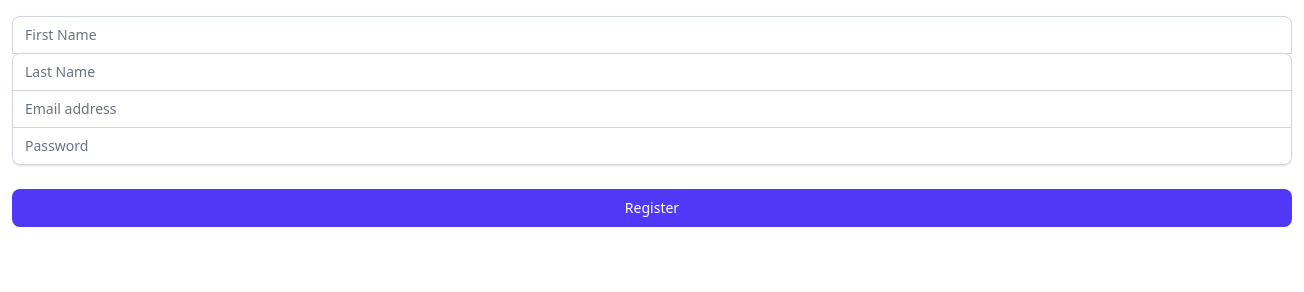
RegistrationForm Component › validates email is required
Type "John" into the field with placeholder "First Name" at (652, 35), box [12,16,1292,54]
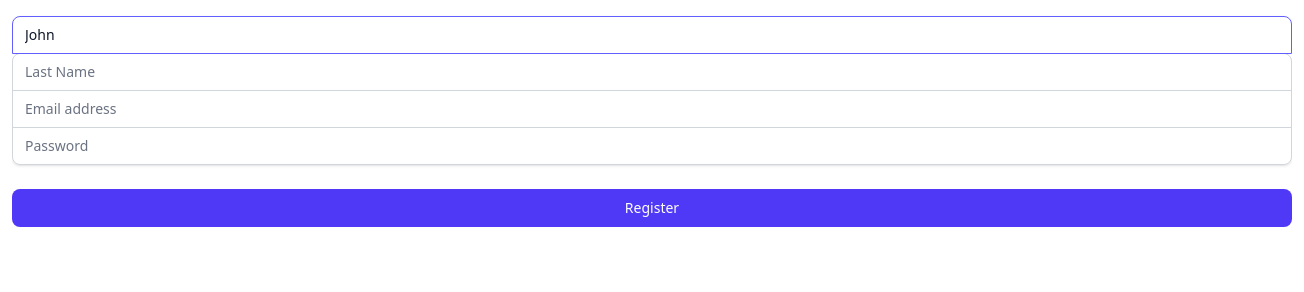
Click the button "Register" at (652, 208), box [12,189,1292,227]
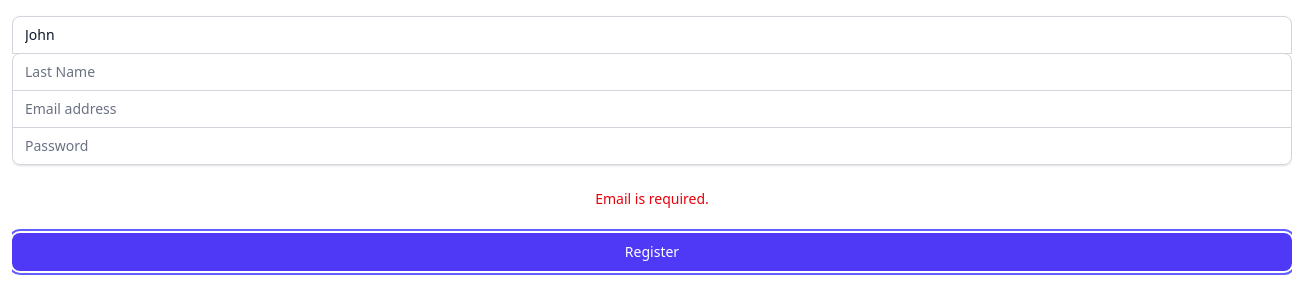
Now the text "Email is required." is shown, box [595,189,709,208]
